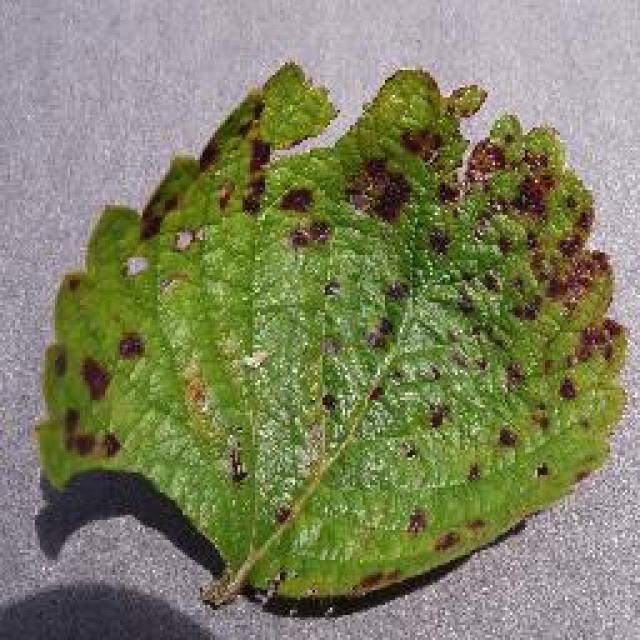Strawberry___Leaf_scorch: (23, 38, 635, 638)
